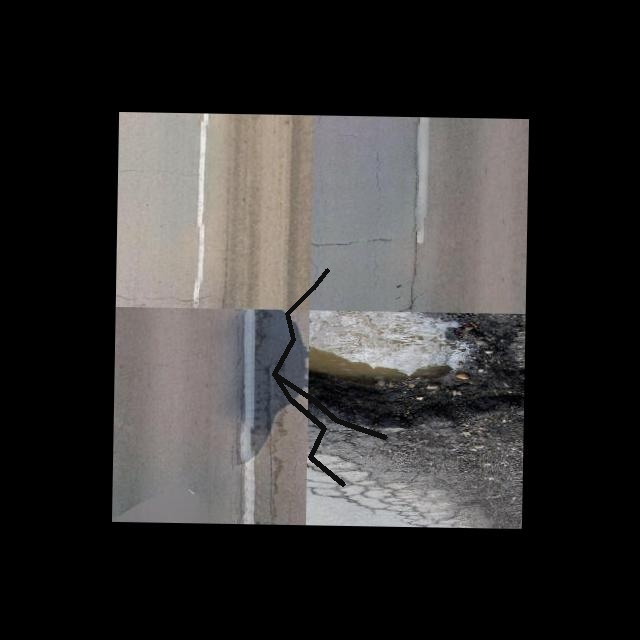road_crack: (264, 260, 353, 494)
